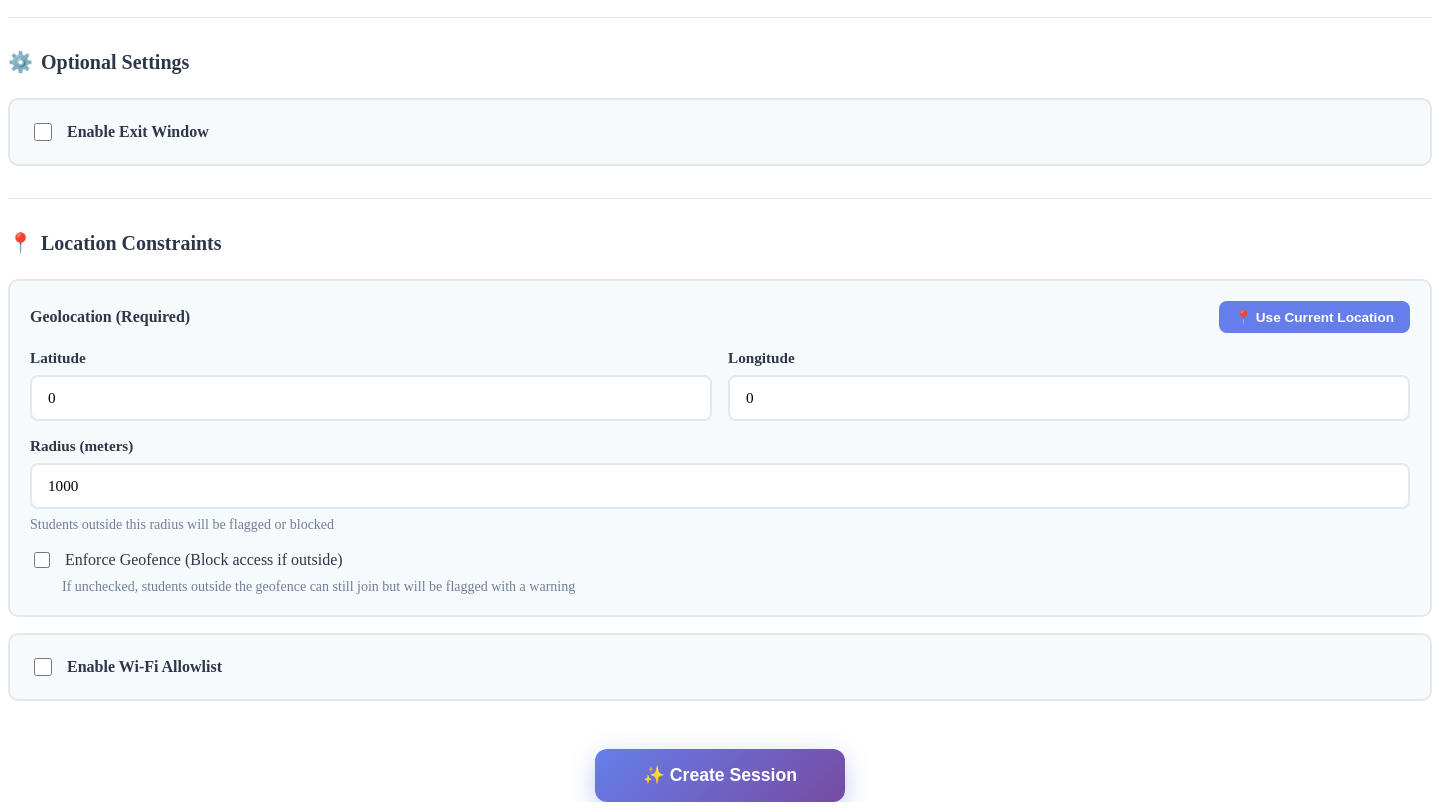
Scenario: SessionCreationForm › Form Rendering › should show nested fields when Wi-Fi allowlist is enabled
(page scrolled)
Click the checkbox labelled "Enable Wi-Fi Allowlist": coordinates (43, 667) [34,658,52,676]
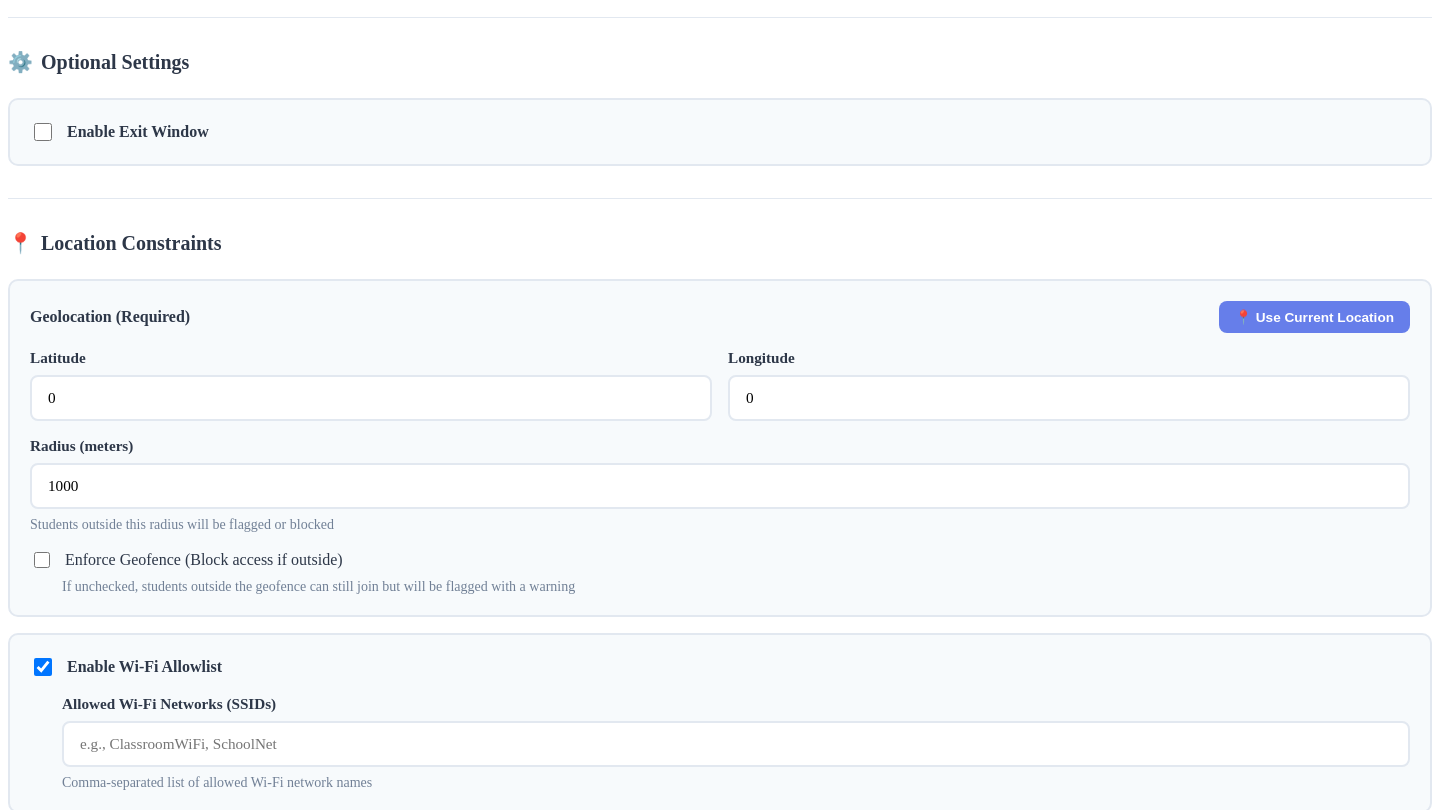
Expected: the field labelled "Allowed Wi-Fi Networks (SSIDs)" is shown, [62,721,1410,767]
